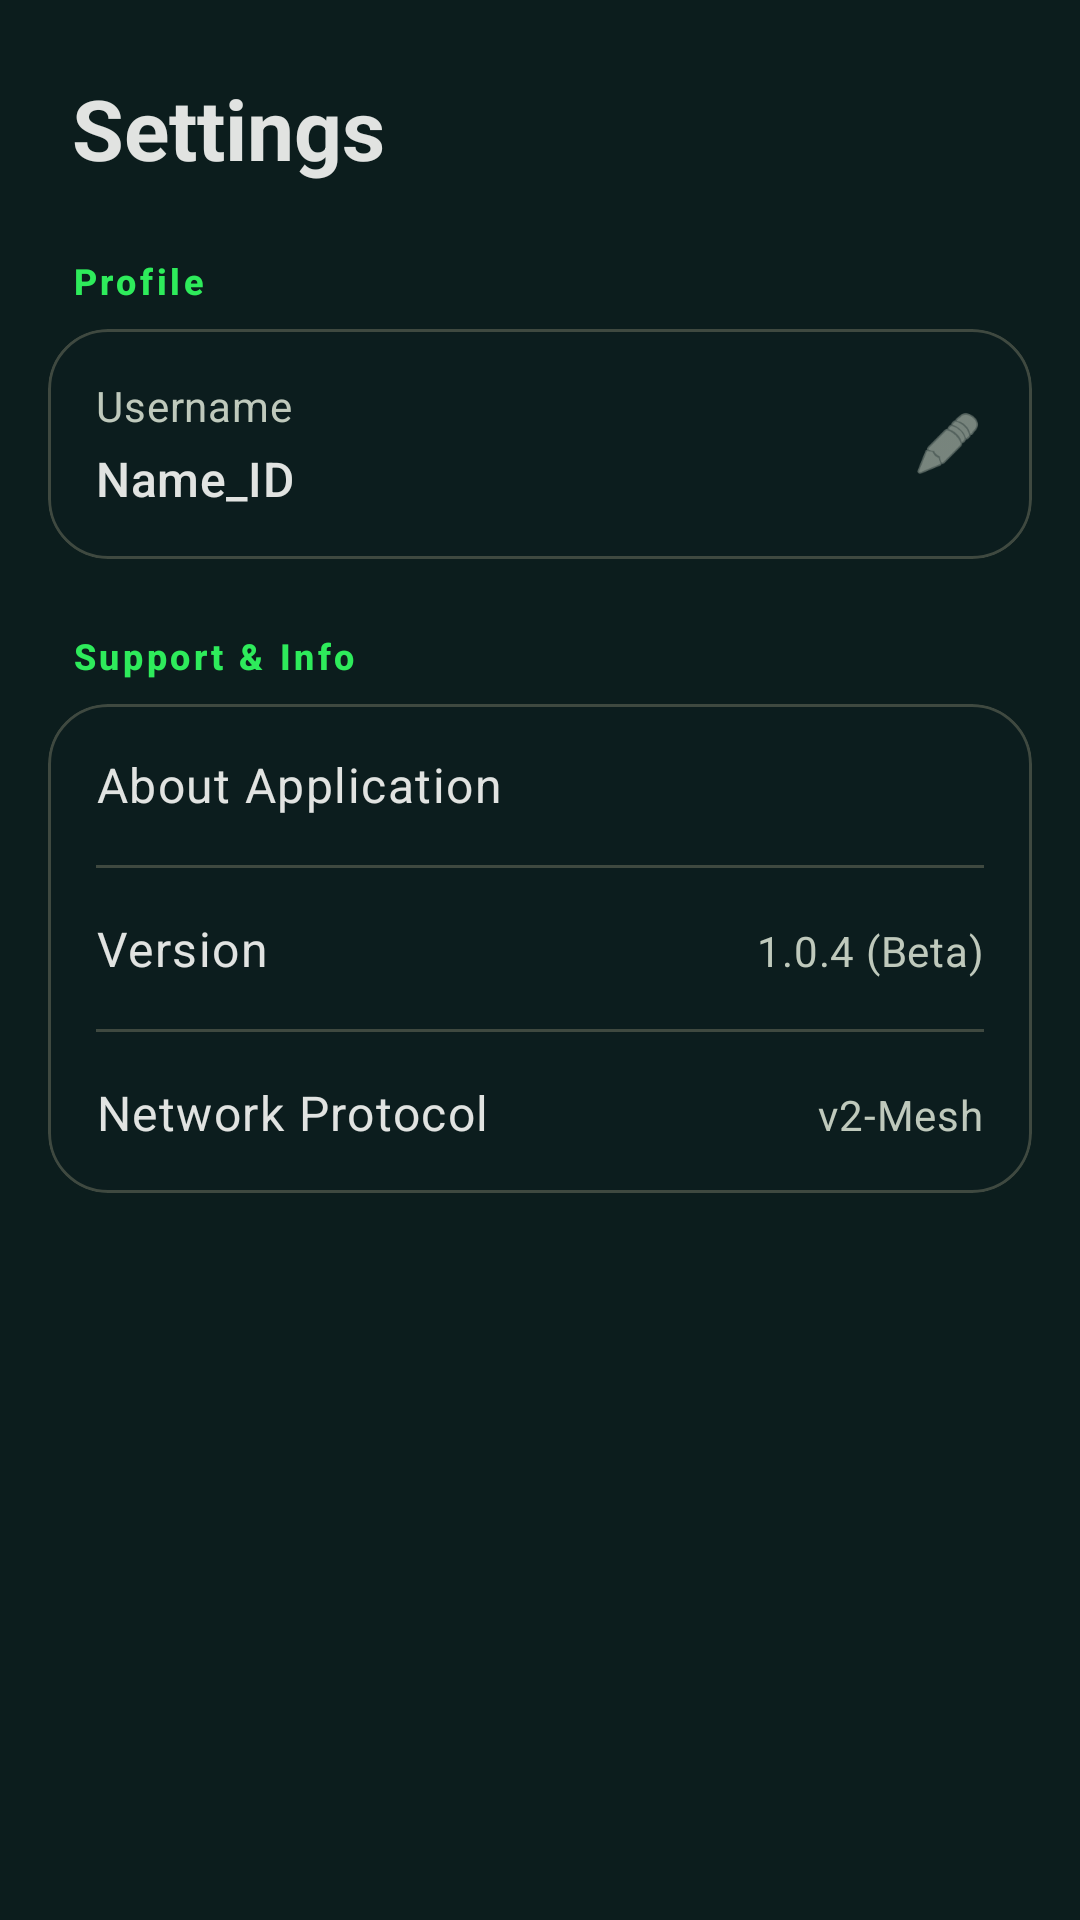

Screen size 1080*1920. Icon name, then its center in pixels as [x,y]:
edit: [947,443]
